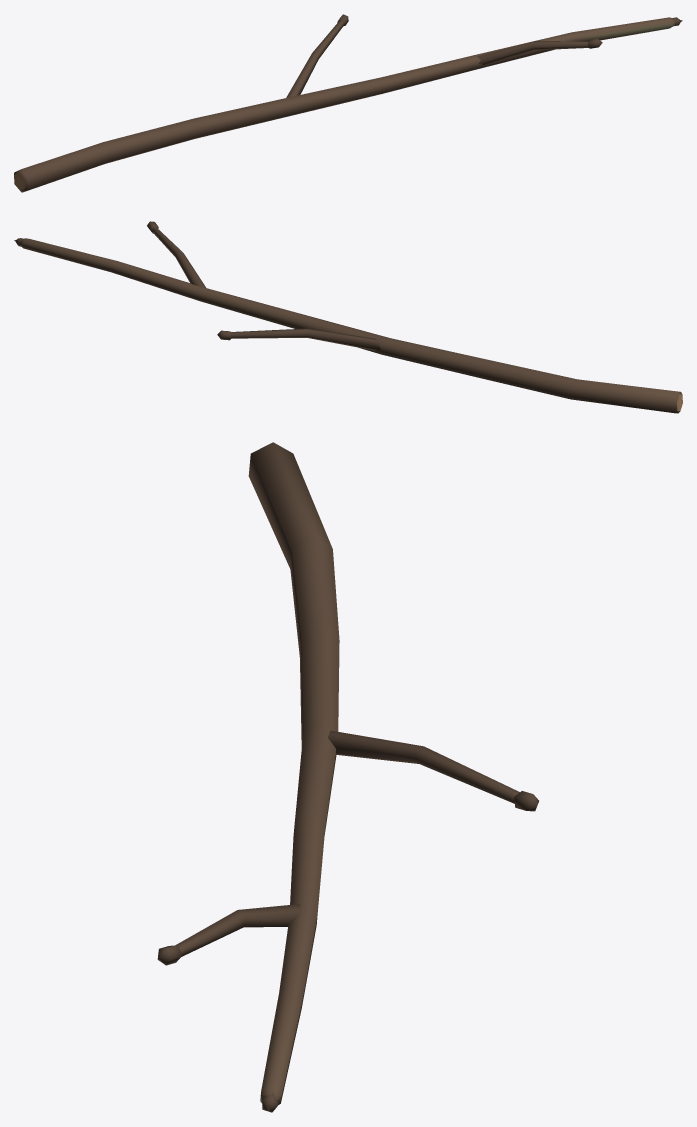
Rendered from twig.glb.
3 renders of one model, top to bottom at view 1: azimuth 30°, elevation 25°; view 2: azimuth 150°, elevation 25°; view 3: azimuth 270°, elevation 25°, orthographic. The views are drawn at different scales.
Parts seen in each view (by area): view 1: twig; view 2: twig; view 3: twig.
Boxes of the visible parts, x1=… form: twig: x1=14, y1=14, x2=682, y2=192; twig: x1=14, y1=221, x2=682, y2=413; twig: x1=157, y1=442, x2=538, y2=1112.
Bounding box in the file's own units: 0.3588 × 0.0205 × 0.0893.
